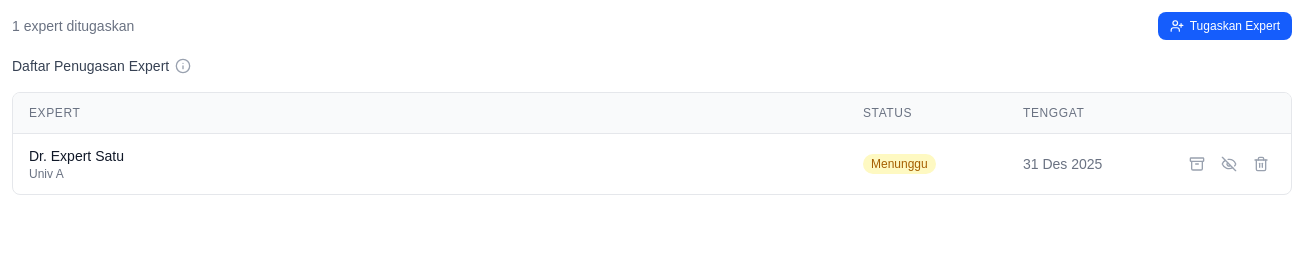
Test: AssignmentManager › harus berhasil mengarsipkan dan membuat revisi baru
What coordinates should you click on to do the following:
click the button titled "Arsipkan & buat revisi baru"
I would click on:
 (1197, 164)
Its box is [1183,150,1211,178].
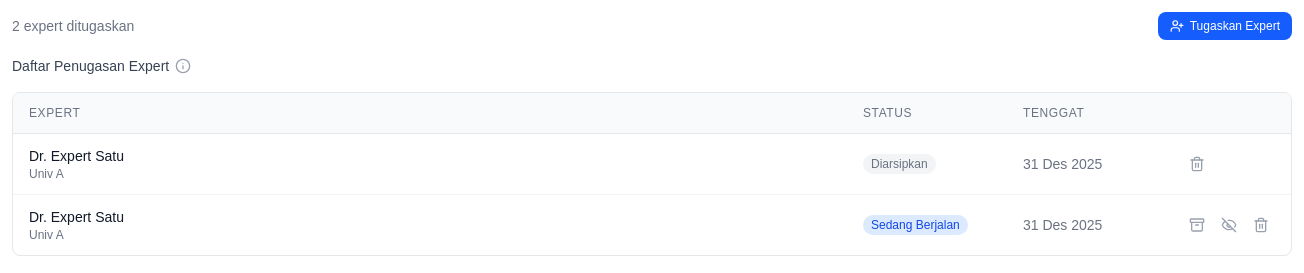
Now the text "Diarsipkan" is shown, box [863,154,936,174]
Now the text "Sedang Berjalan" is shown, box [863,215,968,235]
